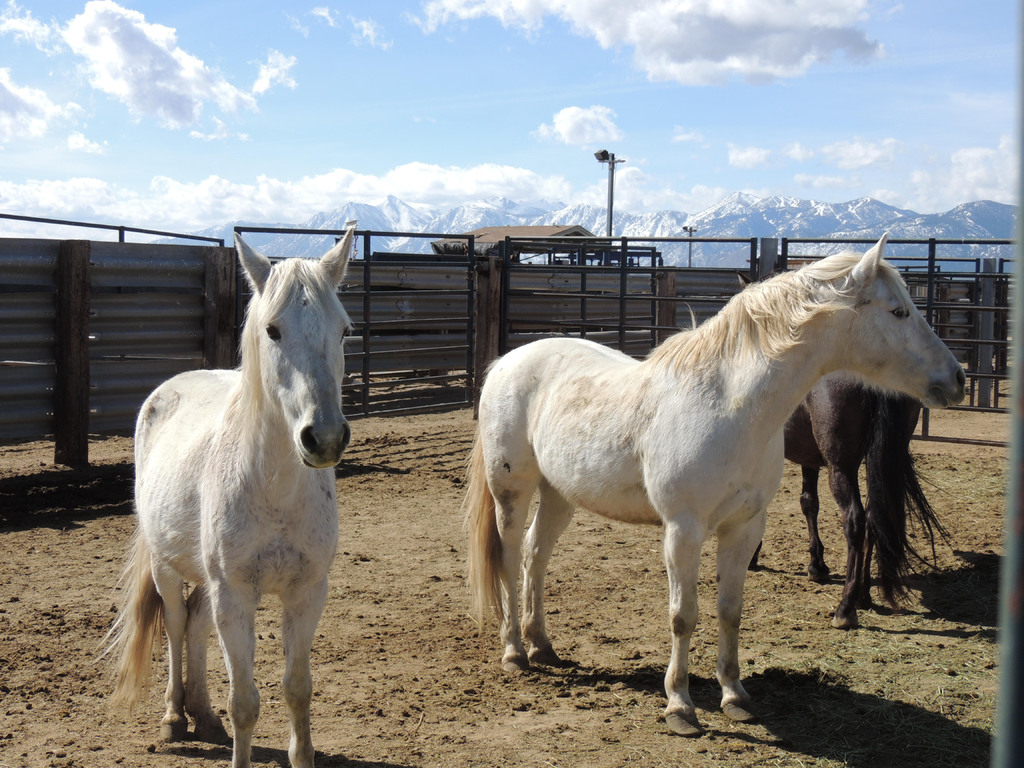horse: (453, 228, 968, 737)
